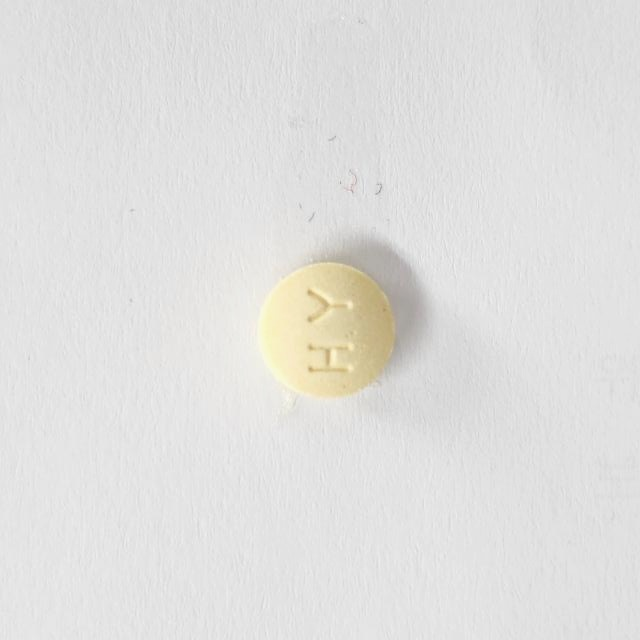pill: (249, 251, 403, 403)
